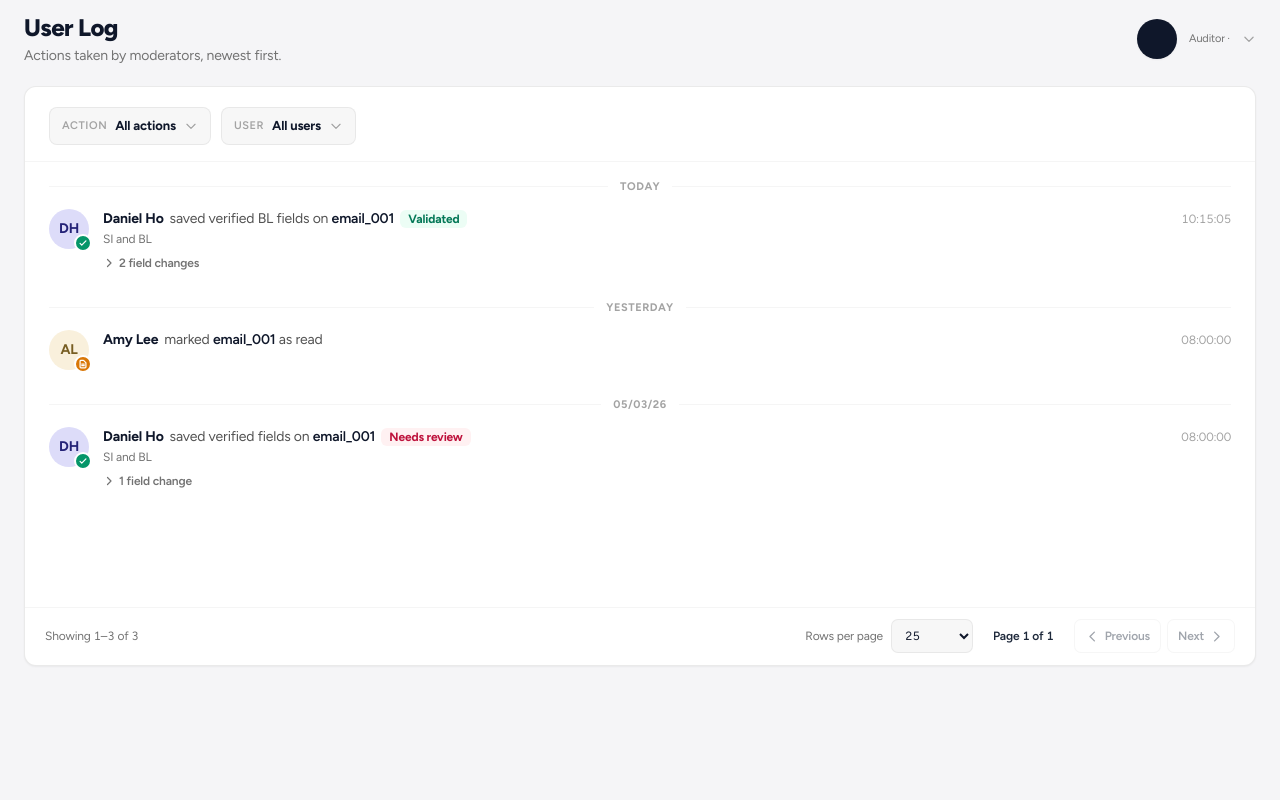
Test: AuditLog › expands the field changes
This screenshot has width=1280, height=800.
Expected: the button "1 field change" is shown, [103, 471, 198, 491]
Step 1. Click the button "2 field changes" → (154, 263), box [103, 253, 205, 273]
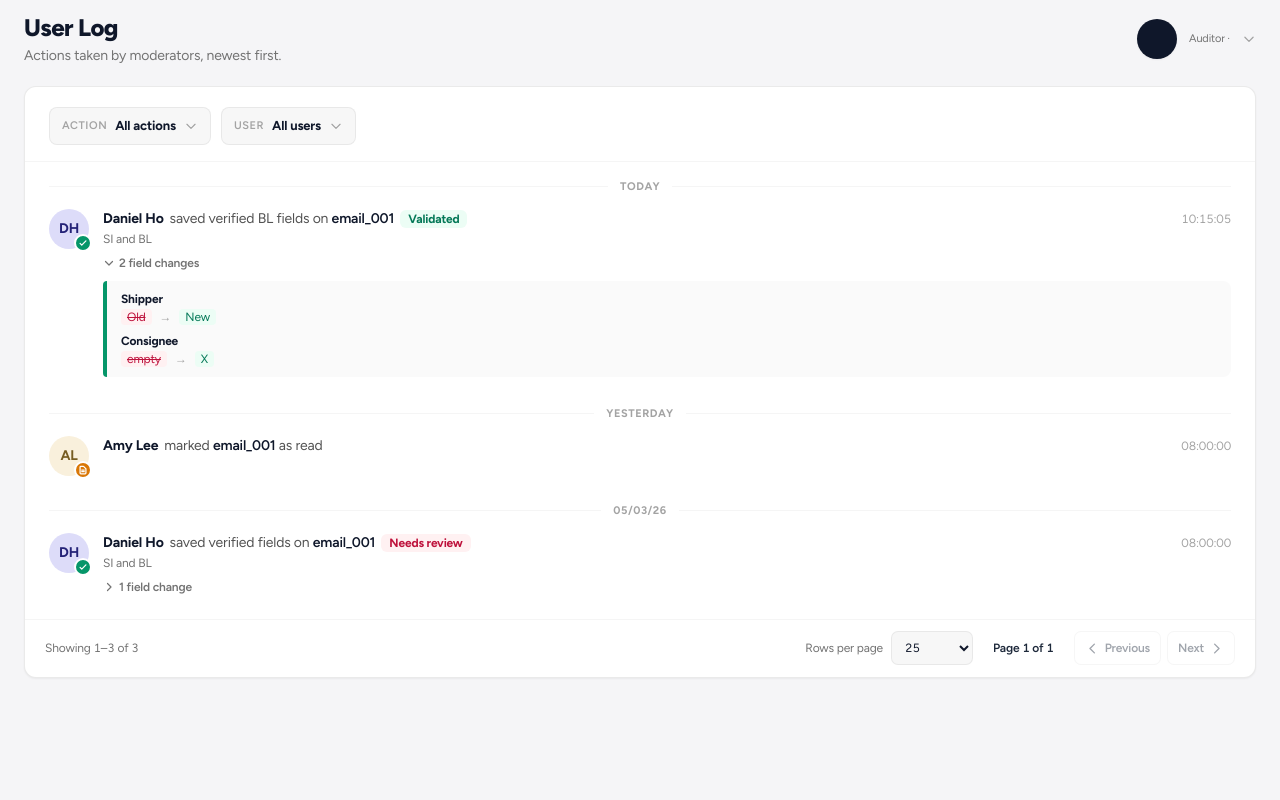
Expected: the button "2 field changes" is expanded
Step 2. Click the button "2 field changes" → (154, 263), box [103, 253, 205, 273]
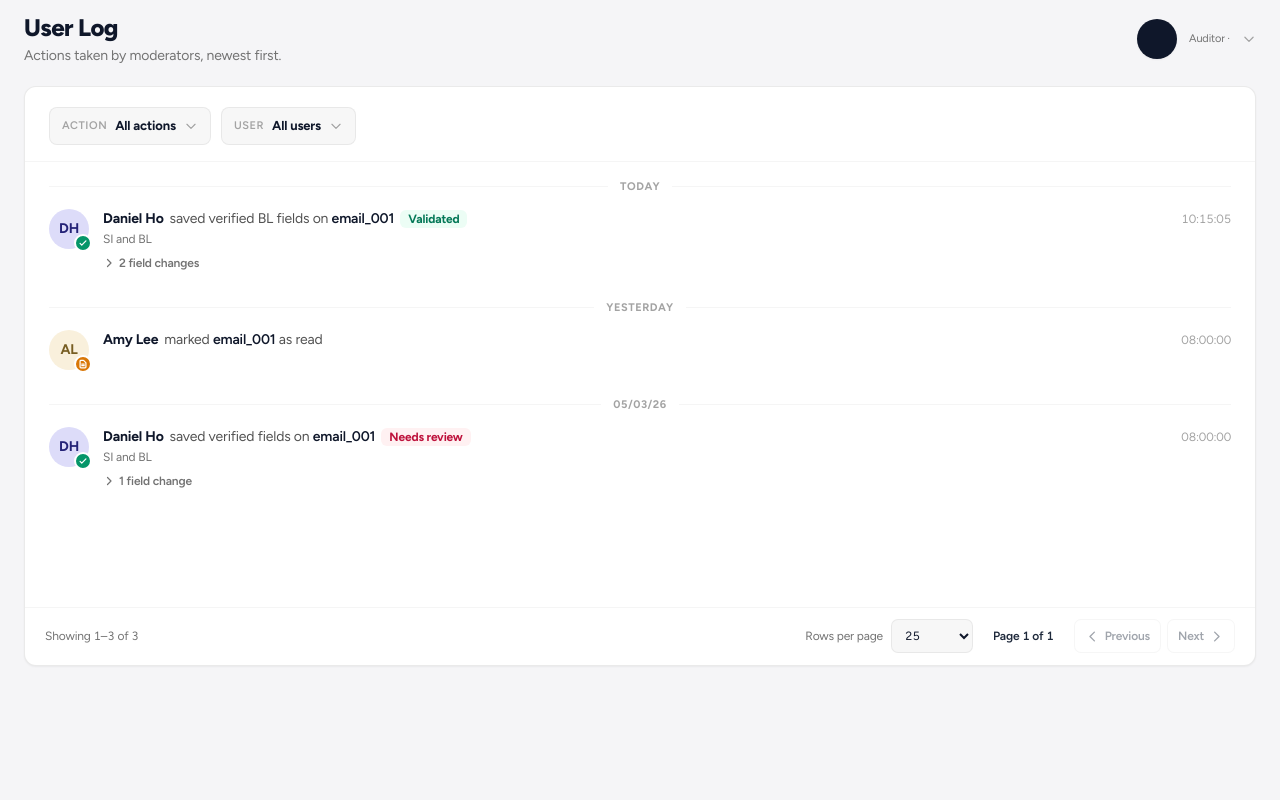
Expected: the element with class "ev-embed" is gone
